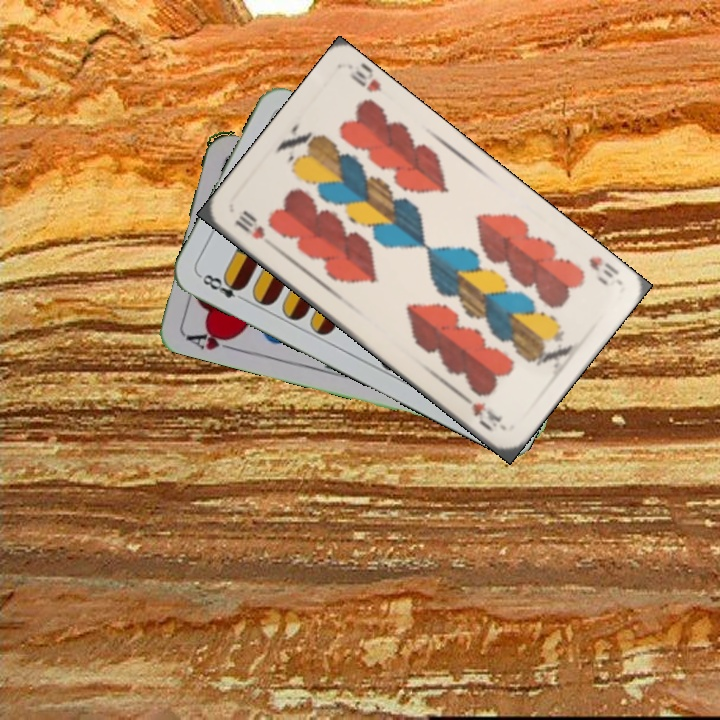E8: (195, 270, 250, 305)
H10: (231, 207, 268, 242), (584, 252, 621, 281)
HA: (181, 324, 240, 354)
